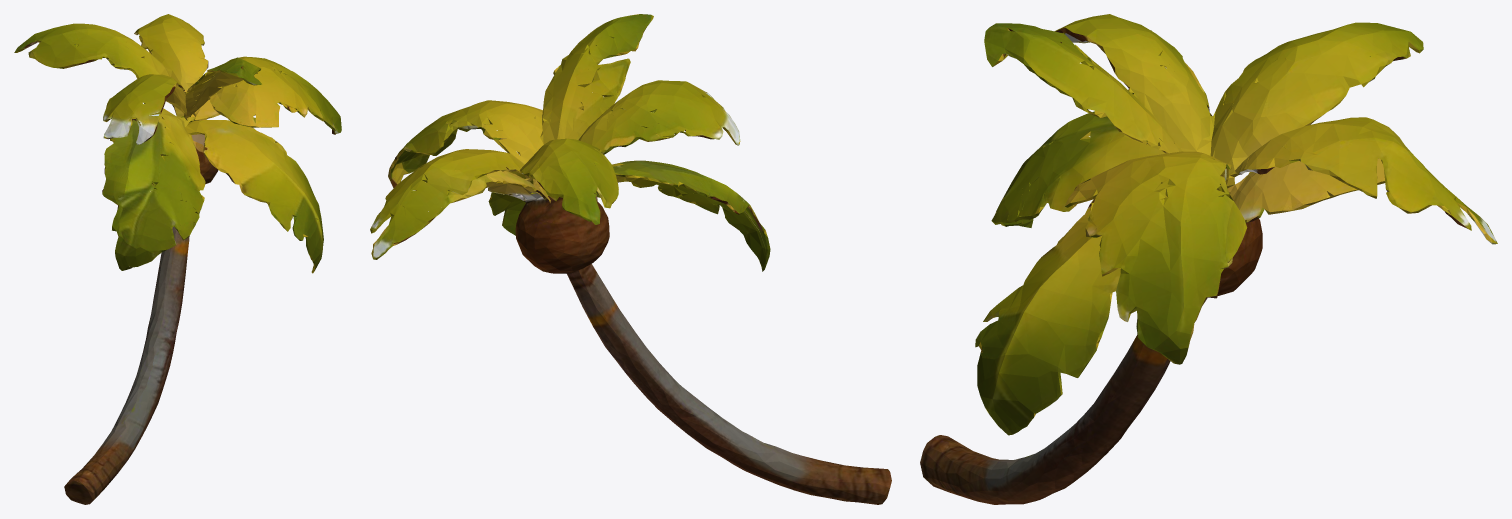
The model's file is palm_tree.glb.
The picture shows the model from 3 angles, left to right: view 1: azimuth 30°, elevation 25°; view 2: azimuth 150°, elevation 25°; view 3: azimuth 270°, elevation 25°; orthographic projection. The views are drawn at different scales.
Visible parts, largest first — view 1: tmpta8vwtz6.ply; view 2: tmpta8vwtz6.ply; view 3: tmpta8vwtz6.ply.
Part boxes in pixels (left/top/right/bottom): tmpta8vwtz6.ply: left=14, top=14, right=341, bottom=504; tmpta8vwtz6.ply: left=370, top=14, right=891, bottom=504; tmpta8vwtz6.ply: left=920, top=14, right=1497, bottom=504.
Bounding box in the file's own units: 1.91 × 2 × 1.76.
1 material, 1 textured.
